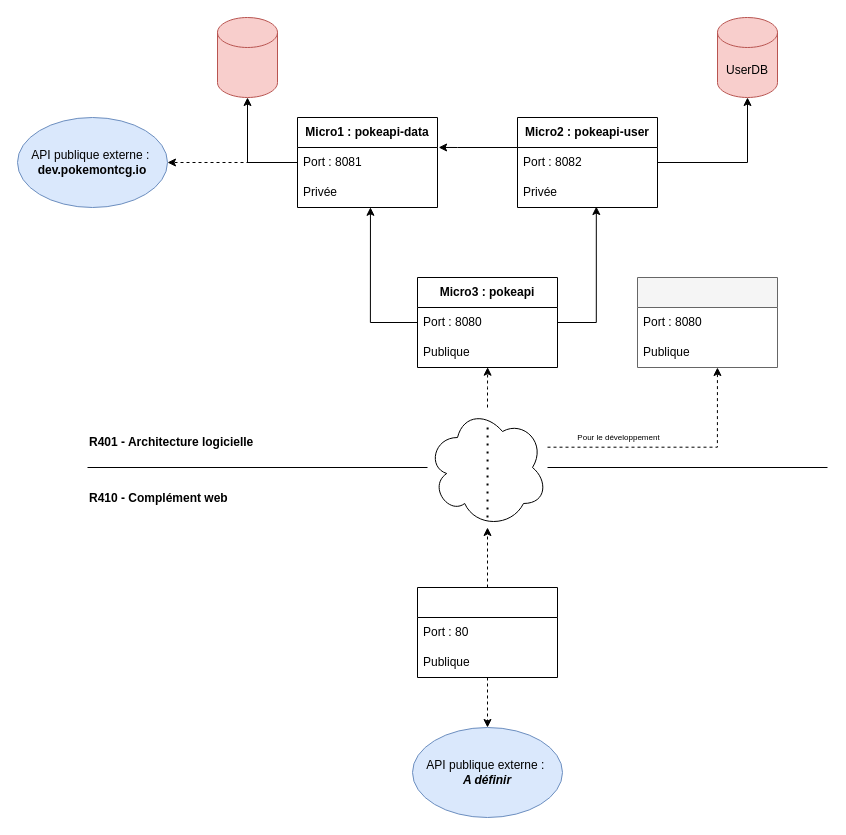
Image size: 846x835. Some labels were removed from this diagram. The shapes that lost their labels are listed below. From the top down, each one's box as (x1, y1, x2, y2) in pixels, then its label:
(216, 16, 278, 98): CacheDB
(636, 276, 778, 368): Stub : pokeapi
(416, 586, 558, 678): React app
